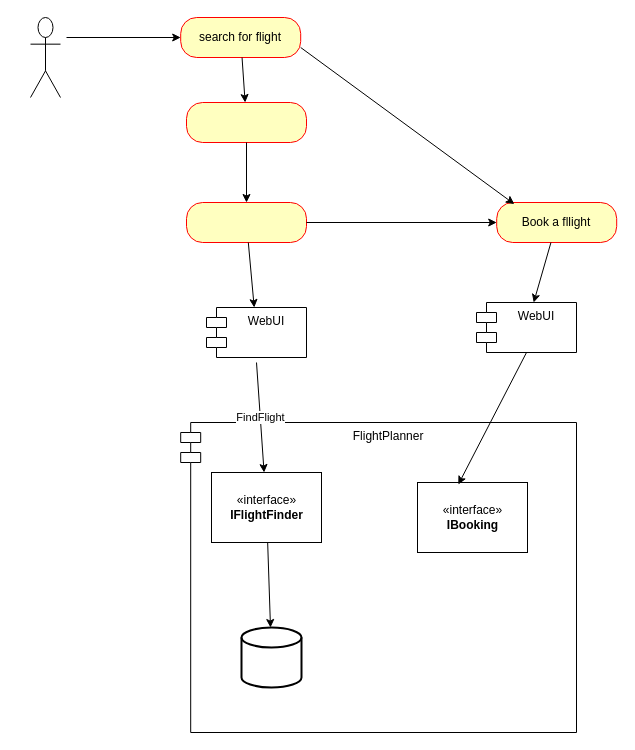
Image size: 635x750. Some labels were removed from this diagram. The centre of each missing label's shape, as x and y in pixels:
CreateAccount: the point at 246,122
Flights: the point at 271,657
Login: the point at 246,222
Passenger: the point at 45,57
